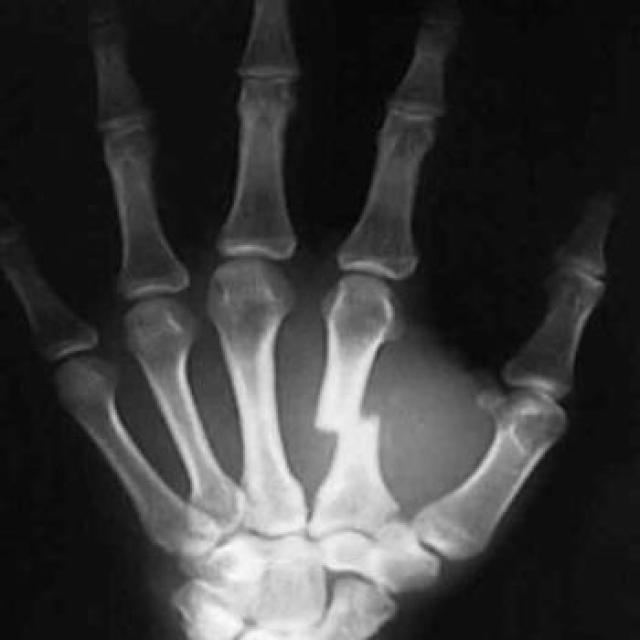Fracture: (307, 404, 386, 447)
